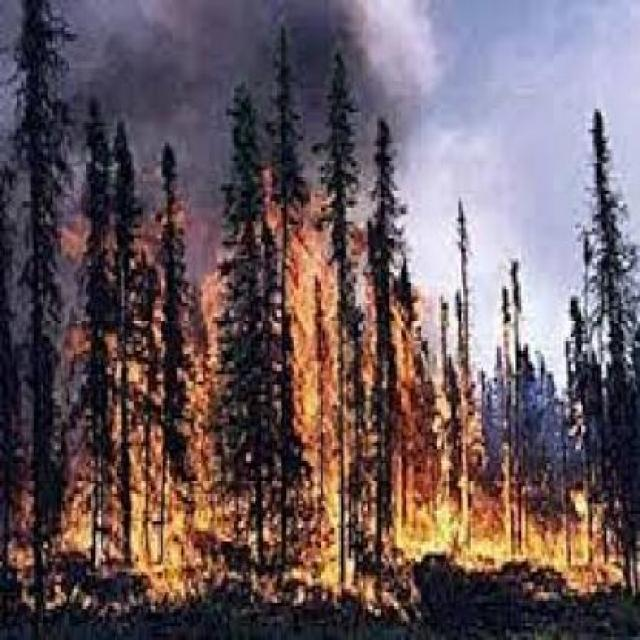Fire: (67, 181, 247, 623), (248, 173, 376, 613), (377, 452, 639, 640)
